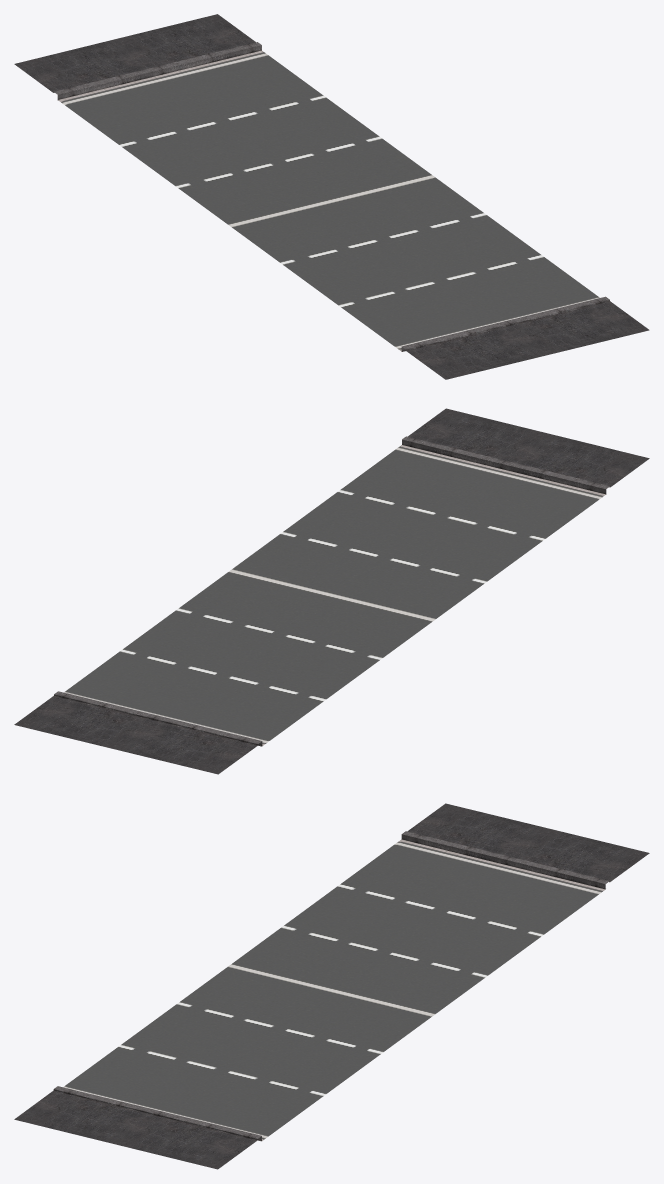
The model's file is 6 lines with footpath_mobile.FBX.
The picture shows the model from 3 angles, top to bottom: view 1: azimuth 30°, elevation 25°; view 2: azimuth 150°, elevation 25°; view 3: azimuth 330°, elevation 25°; orthographic projection.
Visible parts, largest first — view 1: Object001; view 2: Object001; view 3: Object001.
Part boxes in pixels (box(x1,y1,x2,y2)): Object001: box(14, 14, 649, 379); Object001: box(14, 408, 649, 774); Object001: box(14, 803, 649, 1169).
Bounding box in the file's own units: 12.02 × 0.3184 × 43.99.
